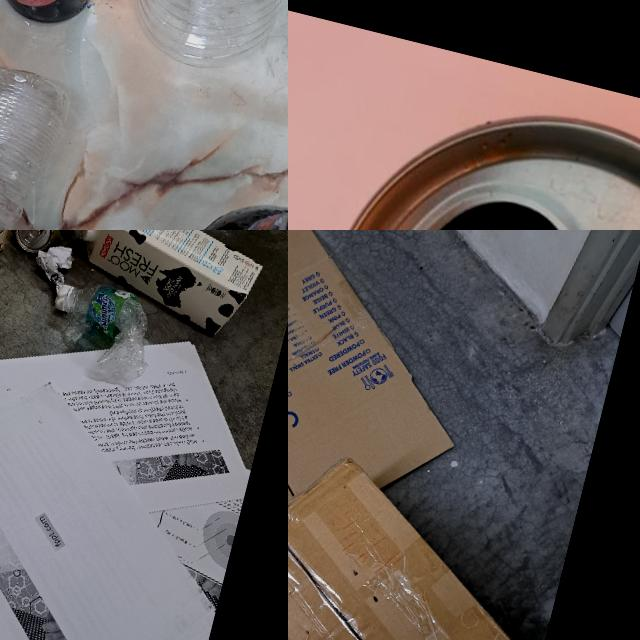aba de lata: (23, 230, 41, 245)
caixinha: (62, 230, 272, 343)
garrafa de vidro: (157, 159, 288, 230)
garrafa plástica: (95, 0, 288, 90), (0, 45, 77, 230), (56, 278, 164, 390)
lata: (288, 63, 640, 230), (9, 230, 91, 263)
papel: (0, 284, 276, 640), (29, 240, 76, 296)
papelão: (288, 230, 501, 640), (288, 425, 576, 640)
tampa plástica: (54, 282, 74, 311), (79, 230, 97, 241)
